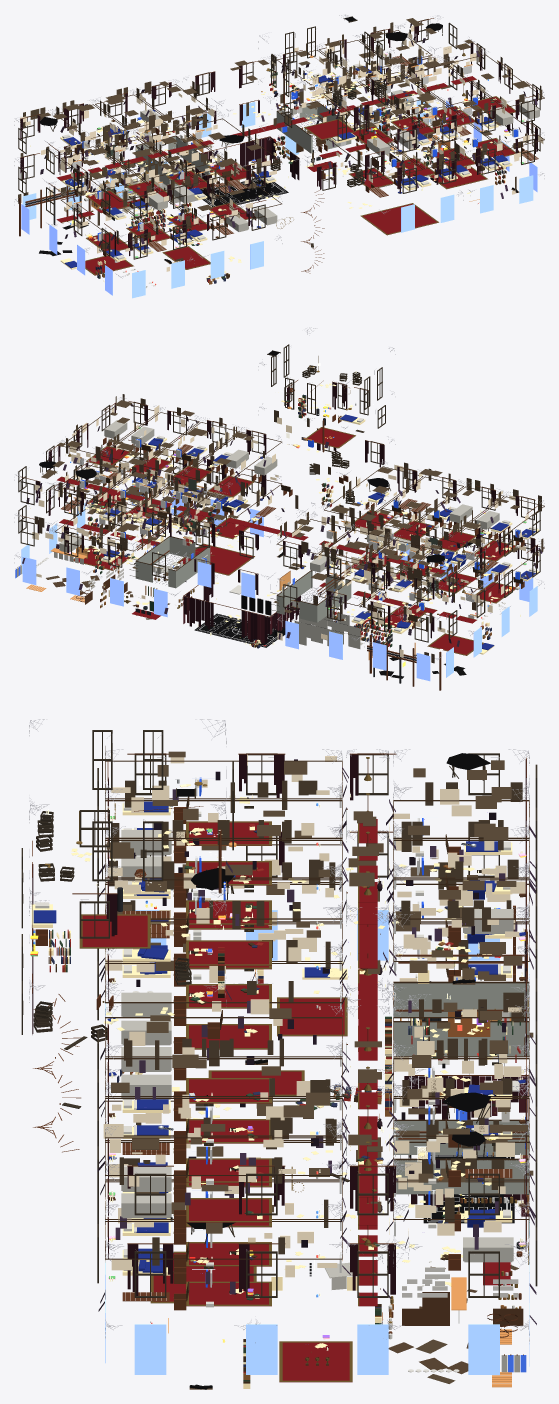
File: SM_Abandoned_Interior_NoCol.fbx
3 views of the same model, one above another, from view 1: azimuth 30°, elevation 25°; view 2: azimuth 150°, elevation 25°; view 3: azimuth 270°, elevation 25° (orthographic). The views are drawn at different scales.
Parts seen in each view (by area): view 1: SM_Abandoned_Interior_NoCol; view 2: SM_Abandoned_Interior_NoCol; view 3: SM_Abandoned_Interior_NoCol.
Part boxes in pixels (x1,y1,x2,y2): SM_Abandoned_Interior_NoCol: (14,14,544,298); SM_Abandoned_Interior_NoCol: (14,327,544,690); SM_Abandoned_Interior_NoCol: (21,719,537,1389).
Size of the model in its own units: 39.41 by 19.19 by 20.41.
